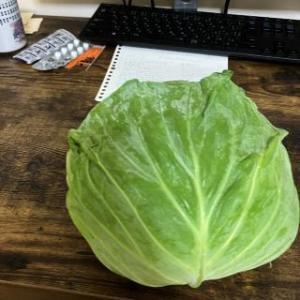cabbage: (65, 68, 300, 292)
